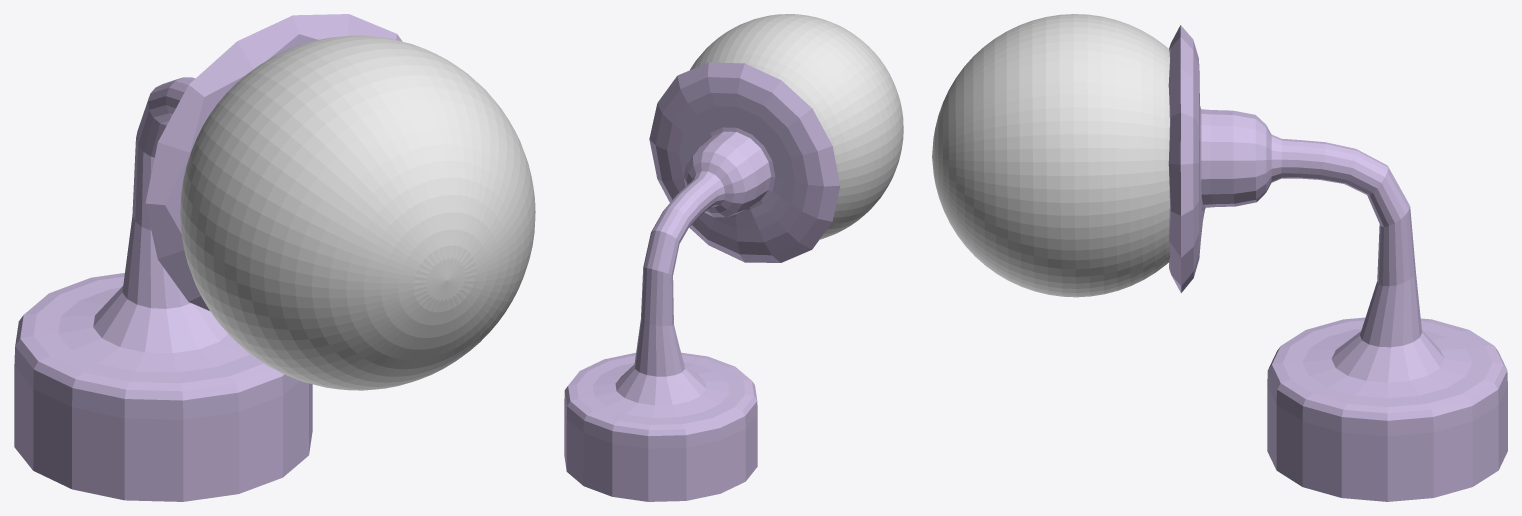
File: lamp.glb
The picture shows the model from 3 angles, left to right: view 1: azimuth 30°, elevation 25°; view 2: azimuth 150°, elevation 25°; view 3: azimuth 270°, elevation 25°; orthographic projection. The views are drawn at different scales.
Parts seen in each view (by area): view 1: lamp; view 2: lamp; view 3: lamp.
Part boxes in pixels (box(x1,y1,x2,y2)): lamp: box(14, 14, 535, 501); lamp: box(564, 14, 903, 501); lamp: box(932, 14, 1507, 501).
Size of the model in its own units: 0.3189 by 0.5256 by 0.6477.
